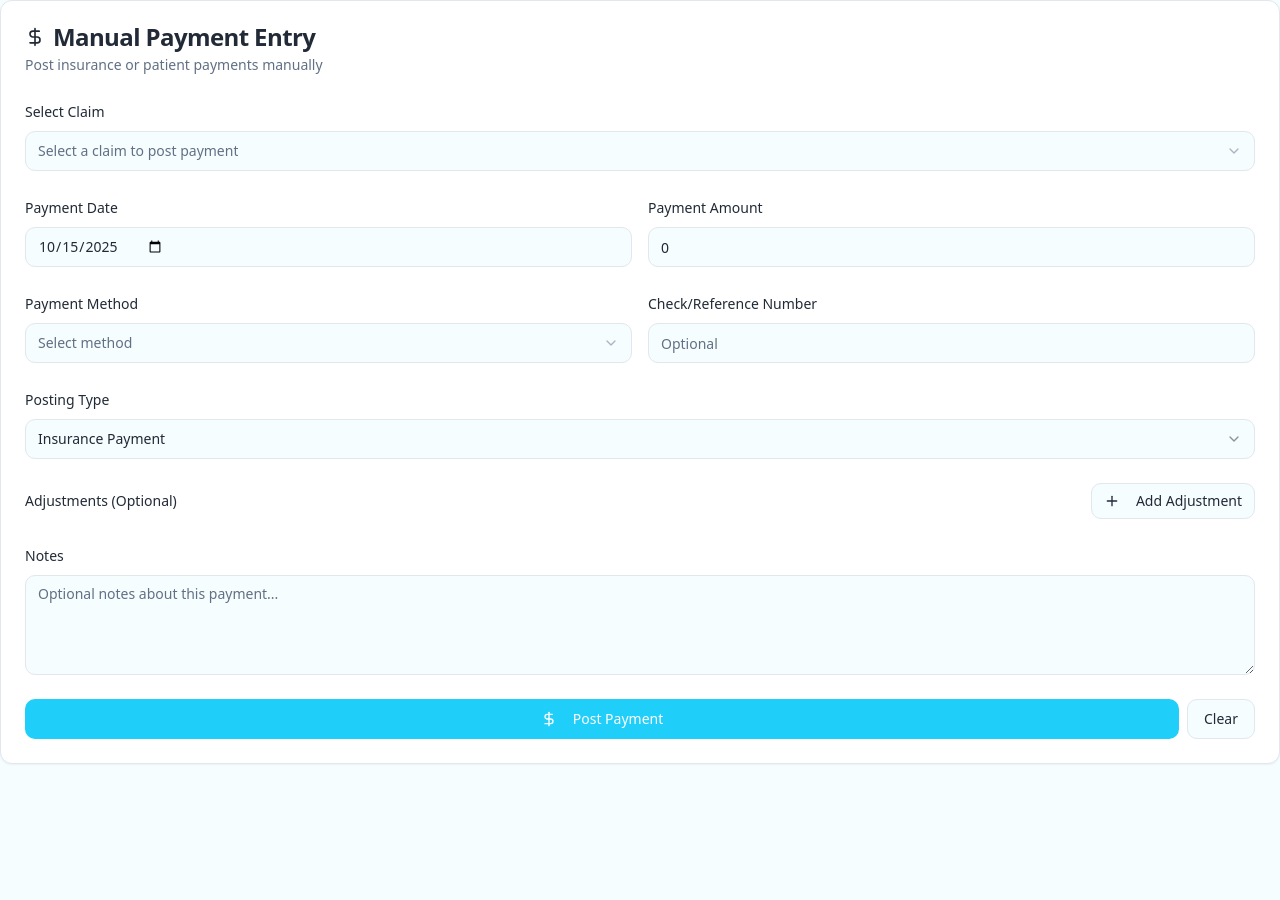
ManualPaymentForm › Claim Selection › should display claim details when selected
What coordinates should you click on to do the following:
click the dropdown labelled "Select a claim to post payment"
I would click on:
 (138, 150)
Its box is [25,131,1255,171].
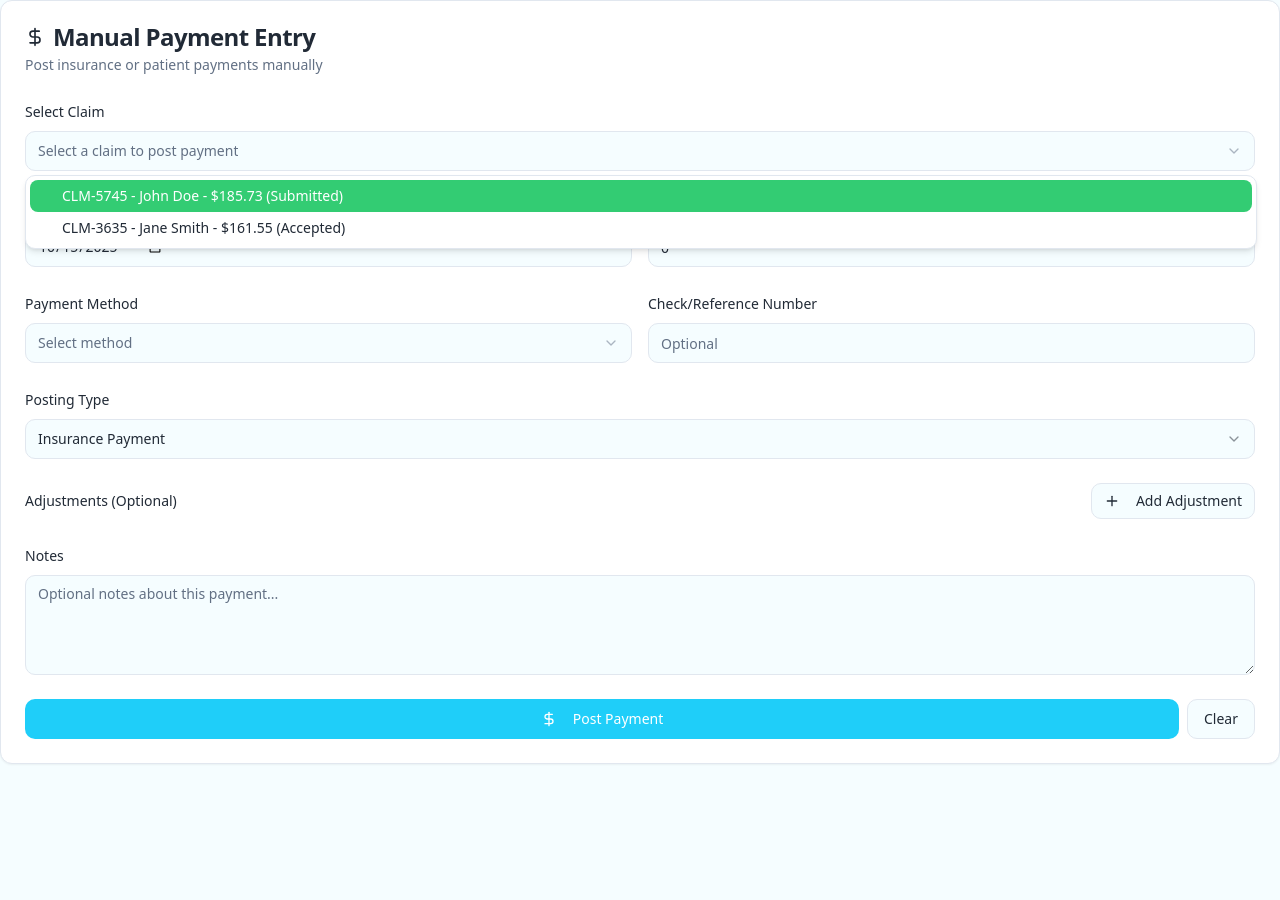
What coordinates should you click on to do the following:
click the option "CLM-5745 - John Doe - $185.73 (Submitted)"
I would click on:
 (95, 196)
Its box is [30,180,1252,212].
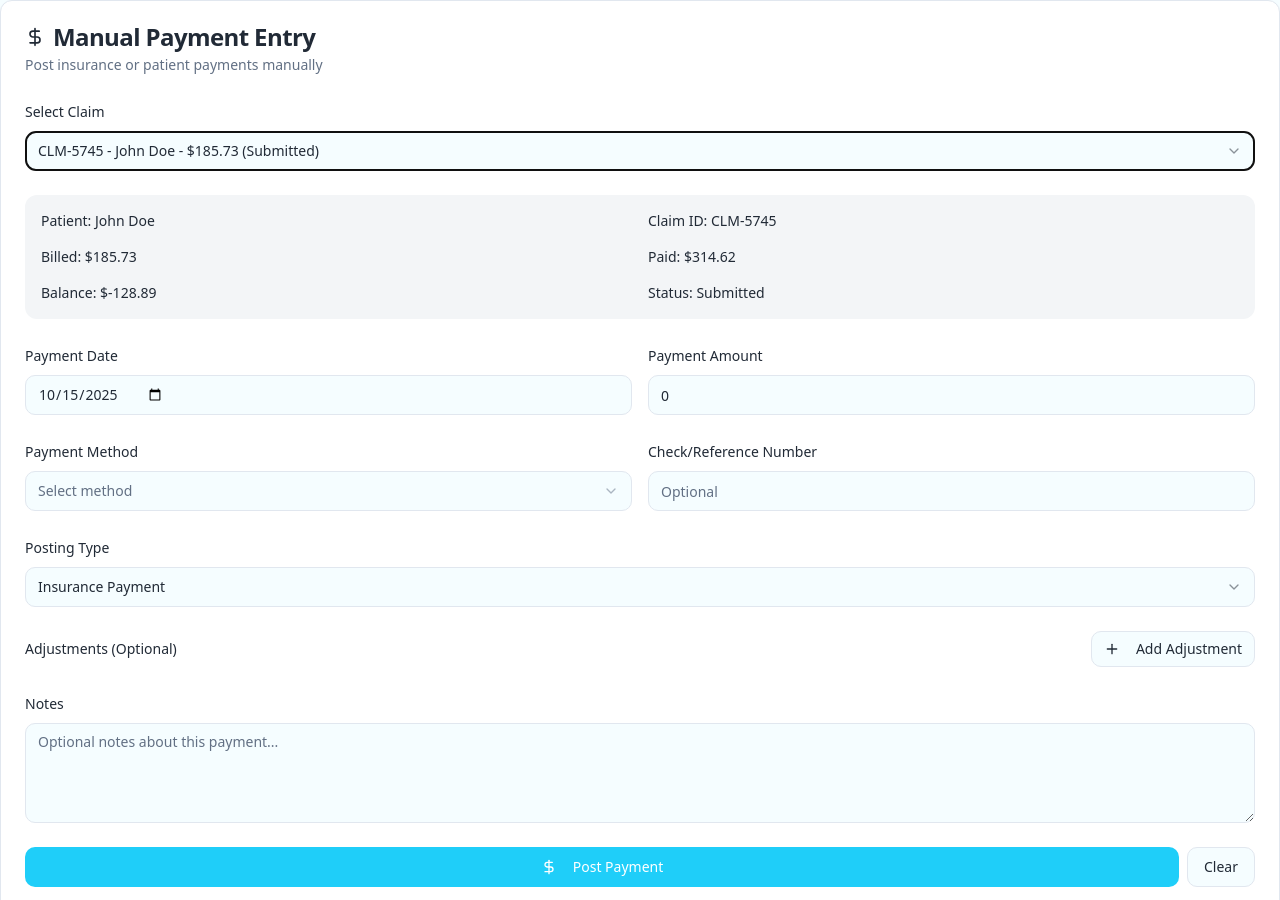
expect the text "Patient:" is shown: met, box [41,211,91,230]
